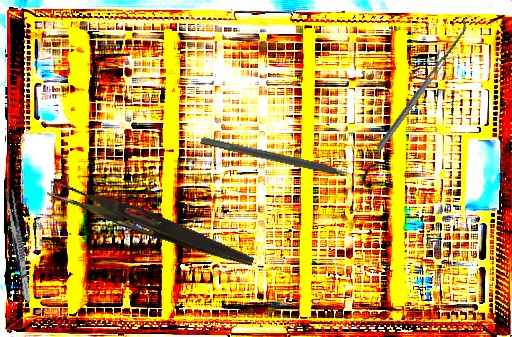Dressing Forceps: (44, 179, 258, 270), (2, 186, 35, 306)
Fixation Ring: (198, 126, 377, 191)
Spatula Surgical: (371, 17, 473, 151)
